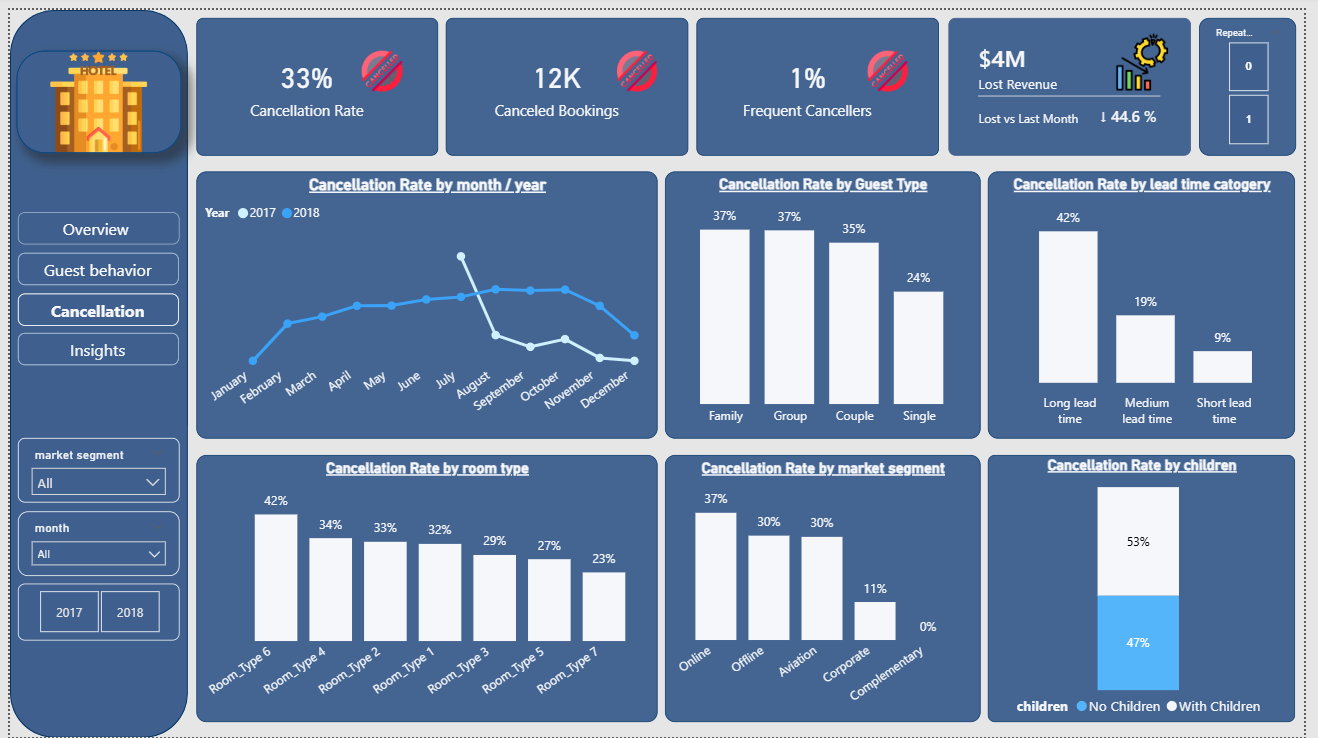

What the dashboard file says about the page in this screenshot:
{"tool":"powerbi","page":{"name":"Cancellation ","canvas":[1280,720],"ordinal":2},"visuals":[{"type":"cardVisual","fields":{"Data":["fact Booking.Lost Revenue"]},"box":[928,8,240,136],"z":0},{"type":"shape","box":[8.4,240,159.2,32],"z":0,"group":"g3"},{"type":"shape","box":[8.4,240,159.2,32],"z":0,"group":"g4"},{"type":"shape","box":[8.4,280,159.2,32],"z":0,"group":"g1"},{"type":"shape","box":[8.4,280,159.2,32],"z":0,"group":"g2"},{"type":"shape","box":[8.4,320,159.2,32],"z":0,"group":"g5"},{"type":"shape","box":[8.4,320,159.2,32],"z":0,"group":"g6"},{"type":"textbox","box":[16.7,200,136,32],"z":1000,"group":"g7"},{"type":"textbox","box":[16.8,240,142.5,32],"z":1000,"group":"g3"},{"type":"textbox","box":[16.8,240,142.5,32],"z":1000,"group":"g4"},{"type":"textbox","box":[16.8,280,142.5,32],"z":1000,"group":"g1"},{"type":"textbox","box":[16.8,280,142.5,32],"z":1000,"group":"g2"},{"type":"textbox","box":[16.8,320,142.5,32],"z":1000,"group":"g5"},{"type":"textbox","box":[16.8,320,142.5,32],"z":1000,"group":"g6"},{"type":"hundredPercentStackedColumnChart","fields":{"Y":["fact Booking.Cancellation Rate"],"Series":["fact Booking.children"]},"box":[968,440,304,264],"z":1000},{"type":"shape","box":[0,0,176,720],"z":2000},{"type":"slicer","fields":{"Values":["Dim date.arrival_year"]},"box":[8,568,160,56],"z":3000},{"type":"lineChart","title":"Cancellation Rate by month / year","fields":{"Category":["Dim date.arrival_month_name"],"Series":["Dim date.arrival_year"],"Y":["fact Booking.Cancellation Rate"]},"box":[184,160,456,264],"z":4000},{"type":"slicer","fields":{"Values":["Dim market.market_segment_type"]},"box":[8,424,160,64],"z":5000},{"type":"clusteredColumnChart","title":"Cancellation Rate by lead time catogery","fields":{"Category":["fact Booking.lead_time_catogery"],"Y":["fact Booking.Cancellation Rate"]},"box":[968,160,304,264],"z":6000},{"type":"image","box":[6,40,163.1,101.4],"z":7000},{"type":"image","box":[6,40,163.1,101.4],"z":8000},{"type":"clusteredColumnChart","title":"Cancellation Rate by market segment","fields":{"Y":["fact Booking.Cancellation Rate"],"Category":["Dim market.market_segment_type"]},"box":[648,440,312,264],"z":9000},{"type":"slicer","fields":{"Values":["Dim date.arrival_month_name"]},"box":[8,496,160,64],"z":10000},{"type":"group","id":"g1","title":"Group 1","box":[8.4,280,159.2,32],"z":11000},{"type":"group","id":"g2","title":"Group 1","box":[8.4,280,159.2,32],"z":12000},{"type":"clusteredColumnChart","title":"Cancellation Rate by room type ","fields":{"Y":["fact Booking.Cancellation Rate"],"Category":["Dim room.room_type_reserved"]},"box":[184,440,456,264],"z":13000},{"type":"group","id":"g3","title":"Group 1","box":[8.4,240,159.2,32],"z":14000},{"type":"group","id":"g4","title":"Group 1","box":[8.4,240,159.2,32],"z":15000},{"type":"clusteredColumnChart","title":"Cancellation Rate by Guest Type","fields":{"Y":["fact Booking.Cancellation Rate"],"Category":["fact Booking.Guest_Type"]},"box":[648,160,312,264],"z":16000},{"type":"group","id":"g5","title":"Group 1","box":[8.4,320,159.2,32],"z":17000},{"type":"group","id":"g6","title":"Group 1","box":[8.4,320,159.2,32],"z":18000},{"type":"card","fields":{"Values":["fact Booking.Cancellation Rate"]},"box":[184,8,239,136],"z":19000},{"type":"card","fields":{"Values":["fact Booking.Frequent Cancellers"]},"box":[679.5,8,240,136],"z":20000},{"type":"slicer","fields":{"Values":["Dim repeated guest.repeated_guest"]},"box":[1176,8,96,136],"z":21000},{"type":"image","box":[1088,24,64,56],"z":21001,"group":"g8"},{"type":"image","box":[840,40,56,40],"z":22000},{"type":"image","box":[344,40,48,40],"z":23000},{"type":"shape","box":[8,200,160,32],"z":24000},{"type":"group","id":"g7","title":"Group 1","box":[16.7,200,136,32],"z":25000},{"type":"group","id":"g8","title":"Group 3","box":[1088,24,64,56],"z":26000},{"type":"card","fields":{"Values":["fact Booking.Canceled Bookings"]},"box":[431.2,8,240,136],"z":27000},{"type":"image","box":[592,40,56,40],"z":28000}]}

Visuals, with their boxes in screenshot pixels (x1, y1, x2, y2), scaled from the page's 1280x720 canvas onto the 1318x738 screenshot:
cardVisual - fact Booking.Lost Revenue: Rect(956, 8, 1203, 148)
shape: Rect(9, 246, 173, 279)
shape: Rect(9, 246, 173, 279)
shape: Rect(9, 287, 173, 320)
shape: Rect(9, 287, 173, 320)
shape: Rect(9, 328, 173, 361)
shape: Rect(9, 328, 173, 361)
textbox: Rect(17, 205, 157, 238)
textbox: Rect(17, 246, 164, 279)
textbox: Rect(17, 246, 164, 279)
textbox: Rect(17, 287, 164, 320)
textbox: Rect(17, 287, 164, 320)
textbox: Rect(17, 328, 164, 361)
textbox: Rect(17, 328, 164, 361)
hundredPercentStackedColumnChart - fact Booking.Cancellation Rate x fact Booking.children: Rect(997, 451, 1310, 722)
shape: Rect(0, 0, 181, 737)
slicer - Dim date.arrival_year: Rect(8, 582, 173, 640)
"Cancellation Rate by month / year" lineChart: Rect(189, 164, 659, 435)
slicer - Dim market.market_segment_type: Rect(8, 435, 173, 500)
"Cancellation Rate by lead time catogery" clusteredColumnChart: Rect(997, 164, 1310, 435)
image: Rect(6, 41, 174, 145)
image: Rect(6, 41, 174, 145)
"Cancellation Rate by market segment" clusteredColumnChart: Rect(667, 451, 989, 722)
slicer - Dim date.arrival_month_name: Rect(8, 508, 173, 574)
"Group 1" group: Rect(9, 287, 173, 320)
"Group 1" group: Rect(9, 287, 173, 320)
"Cancellation Rate by room type " clusteredColumnChart: Rect(189, 451, 659, 722)
"Group 1" group: Rect(9, 246, 173, 279)
"Group 1" group: Rect(9, 246, 173, 279)
"Cancellation Rate by Guest Type" clusteredColumnChart: Rect(667, 164, 989, 435)
"Group 1" group: Rect(9, 328, 173, 361)
"Group 1" group: Rect(9, 328, 173, 361)
card - fact Booking.Cancellation Rate: Rect(189, 8, 436, 148)
card - fact Booking.Frequent Cancellers: Rect(700, 8, 947, 148)
slicer - Dim repeated guest.repeated_guest: Rect(1211, 8, 1310, 148)
image: Rect(1120, 25, 1186, 82)
image: Rect(865, 41, 923, 82)
image: Rect(354, 41, 404, 82)
shape: Rect(8, 205, 173, 238)
"Group 1" group: Rect(17, 205, 157, 238)
"Group 3" group: Rect(1120, 25, 1186, 82)
card - fact Booking.Canceled Bookings: Rect(444, 8, 691, 148)
image: Rect(610, 41, 667, 82)
